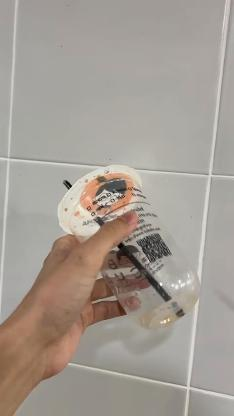Plastic Cup: (58, 166, 202, 332)
